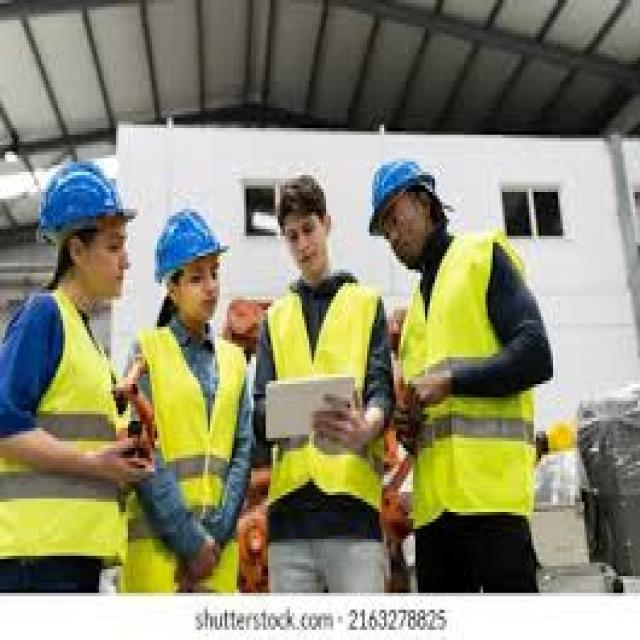reflective_jacket: (398, 229, 548, 529), (0, 296, 130, 582), (260, 276, 386, 515), (135, 330, 248, 592)
safety_helmet: (29, 151, 137, 242), (150, 199, 232, 283), (362, 151, 441, 222)
